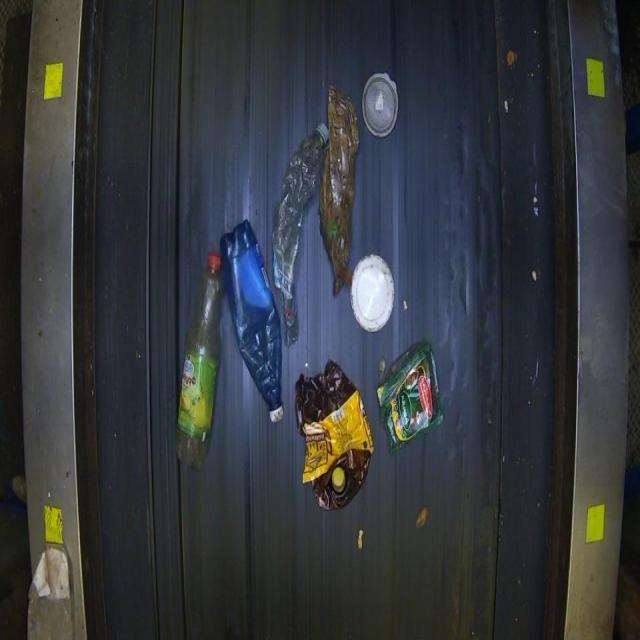bottles: (174, 250, 223, 470)
other-trash: (375, 340, 443, 454)
trashbin: (13, 0, 633, 639)
